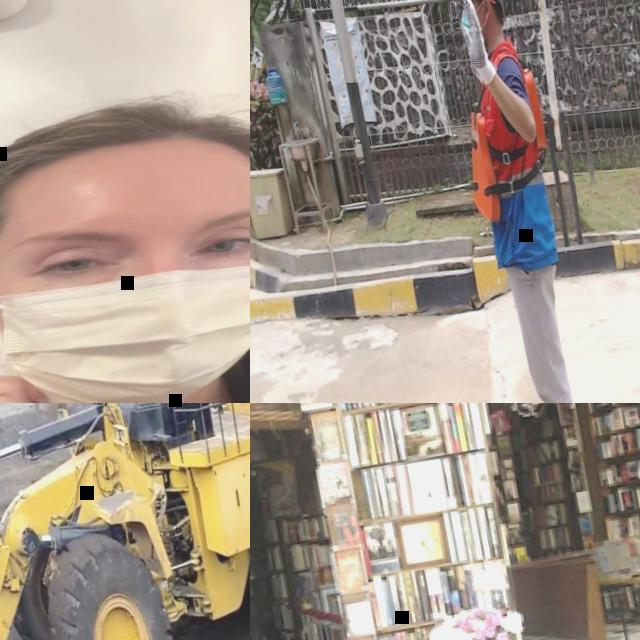machinery: (0, 403, 250, 640)
mask: (0, 243, 250, 403), (454, 1, 492, 40)
no_helmet: (0, 91, 250, 228)
person: (0, 55, 250, 403), (432, 0, 619, 403)
vest: (447, 64, 563, 227)
